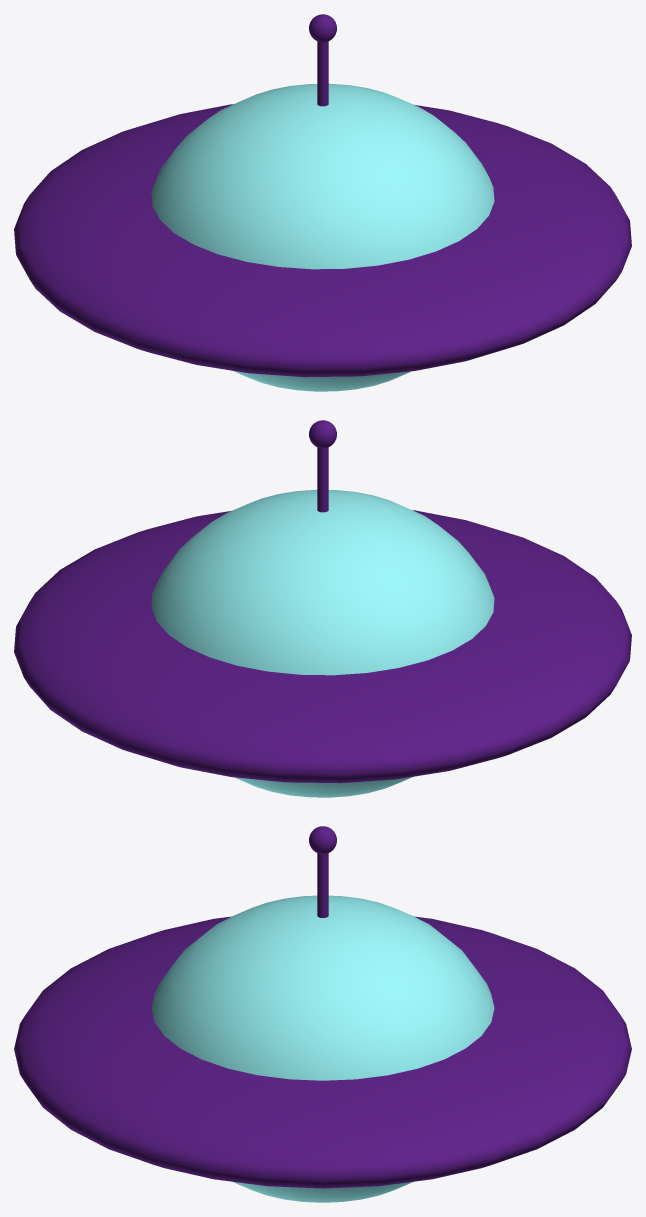
File: ufo.fbx
The picture shows the model from 3 angles, top to bottom: view 1: azimuth 30°, elevation 25°; view 2: azimuth 150°, elevation 25°; view 3: azimuth 270°, elevation 25°; orthographic projection.
Visible parts, largest first — view 1: Sphere002, Sphere001, Cylinder001; view 2: Sphere002, Sphere001, Cylinder001; view 3: Sphere002, Sphere001, Cylinder001.
Boxes of the visible parts, box(x1,y1,x2,y2) form: Sphere002: box(14, 104, 631, 377); Sphere001: box(151, 83, 494, 391); Cylinder001: box(309, 14, 336, 106); Sphere002: box(14, 510, 631, 783); Sphere001: box(151, 489, 494, 797); Cylinder001: box(309, 420, 336, 512); Sphere002: box(14, 916, 631, 1188); Sphere001: box(151, 895, 494, 1202); Cylinder001: box(309, 826, 336, 917).
Bounding box in the file's own units: 2008 × 1274 × 2008.
